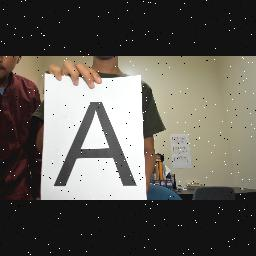a: (49, 96, 141, 194)
